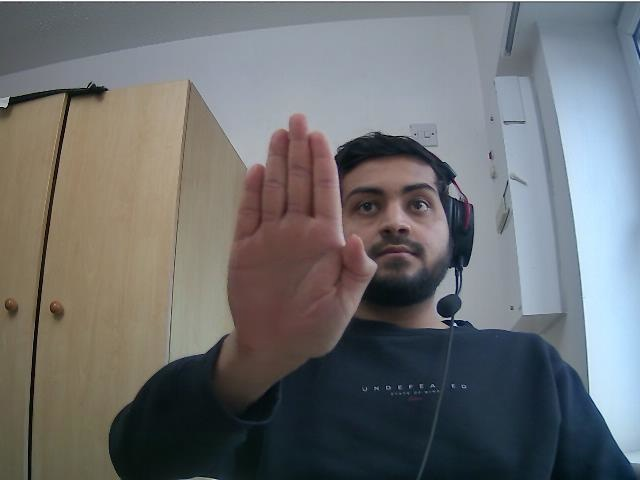up: (225, 113, 379, 343)
